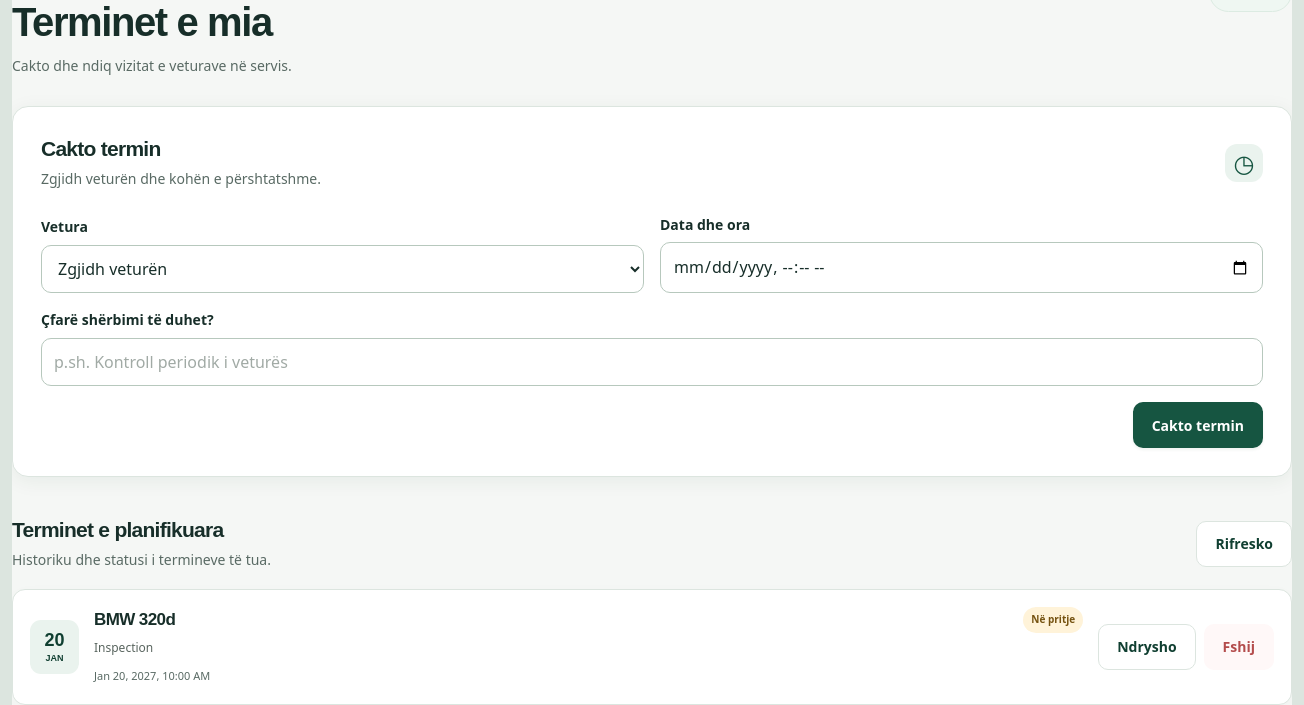
it: preserves the vehicle ID when editing an appointment without a nested vehicle
(page scrolled)
Click the button "Ndrysho" at (1147, 647), box x1=1098 y1=624 x2=1196 y2=670
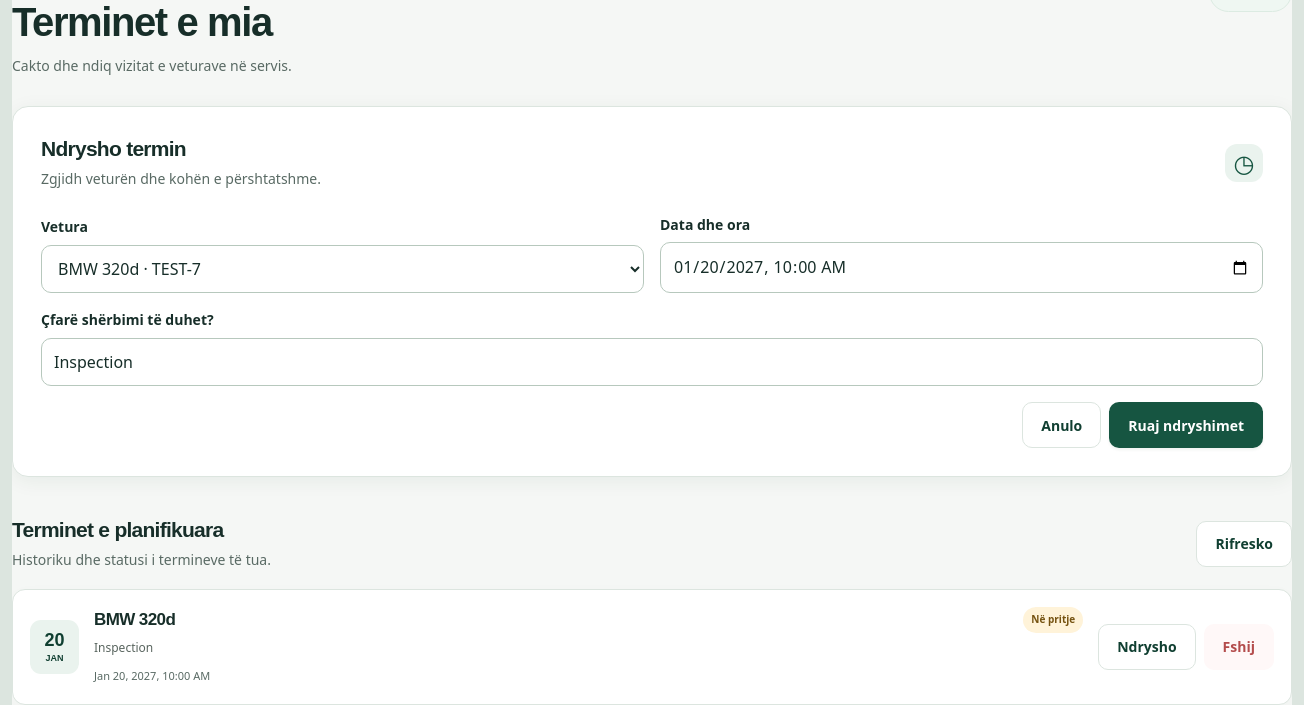
Expected: the dropdown shows "BMW 320d · TEST-7", x1=41 y1=245 x2=644 y2=293
